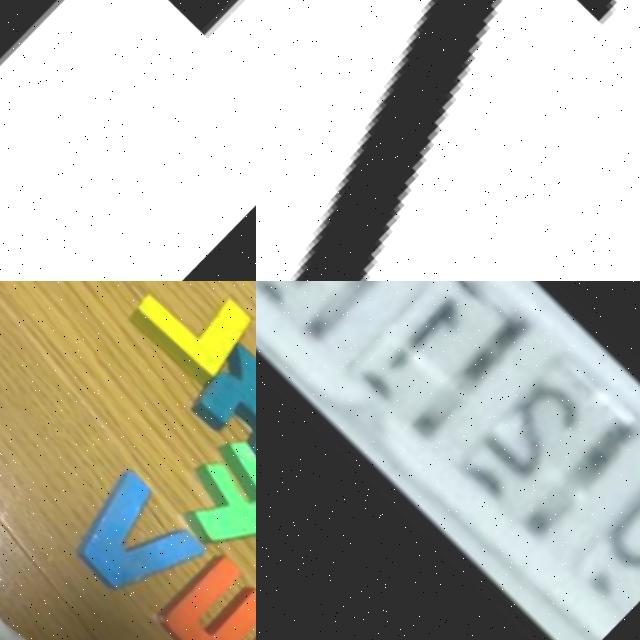0: (571, 469, 640, 611)
1: (256, 0, 640, 281), (354, 281, 493, 410)
2: (468, 372, 599, 502)
7: (256, 281, 386, 317)
F: (154, 427, 256, 583)
K: (174, 335, 256, 489)
L: (107, 281, 256, 410)
T: (0, 0, 256, 281)
V: (40, 460, 213, 640)
W: (145, 544, 256, 640)
